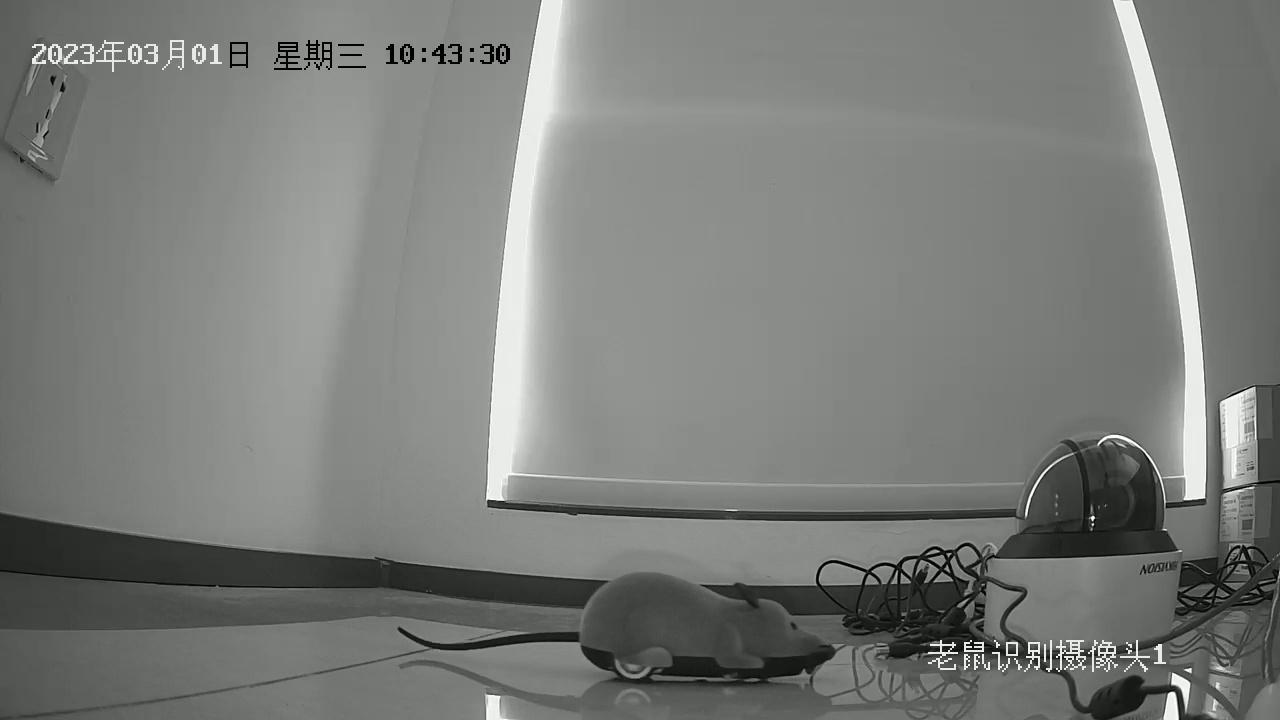rat: (394, 572, 839, 682)
